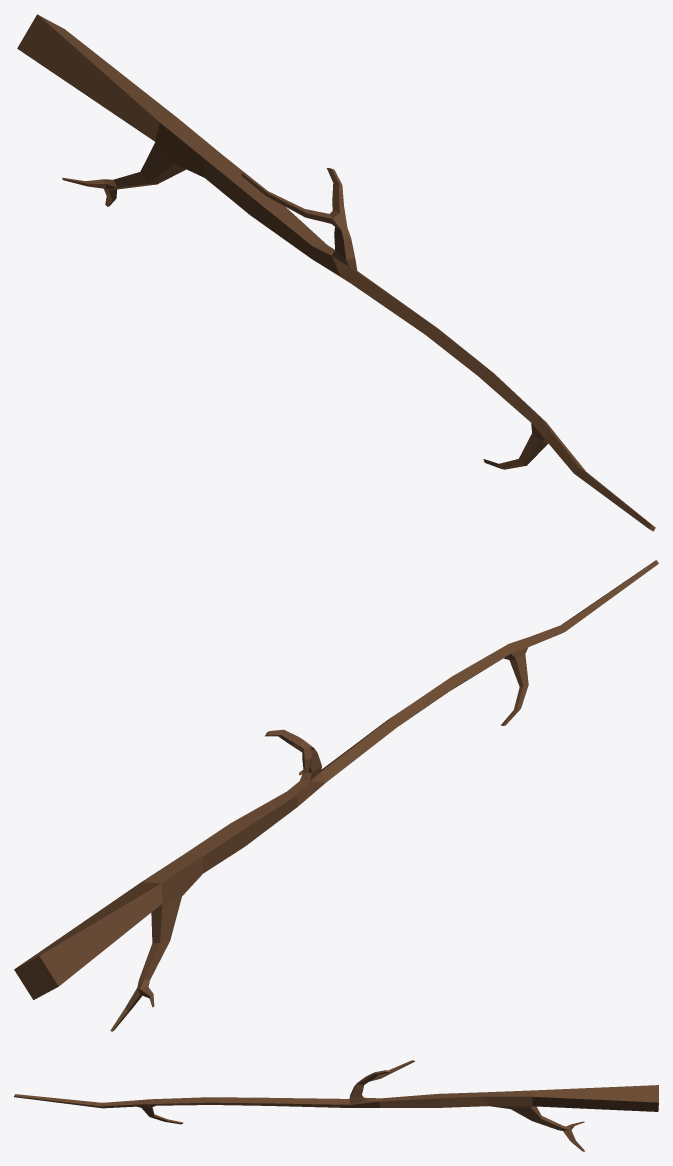
File: mesh_pineTree_dead.fbx
3 renders of one model, top to bottom at view 1: azimuth 30°, elevation 25°; view 2: azimuth 150°, elevation 25°; view 3: azimuth 270°, elevation 25°, orthographic. The views are drawn at different scales.
Visible parts, largest first — view 1: mesh_pineTree_dead; view 2: mesh_pineTree_dead; view 3: mesh_pineTree_dead.
Part boxes in pixels (x1,y1,x2,y2): mesh_pineTree_dead: (17, 14, 655, 531); mesh_pineTree_dead: (14, 560, 658, 1031); mesh_pineTree_dead: (14, 1060, 658, 1151).
Bounding box in the file's own units: 0.7765 × 1.69 × 11.23.
